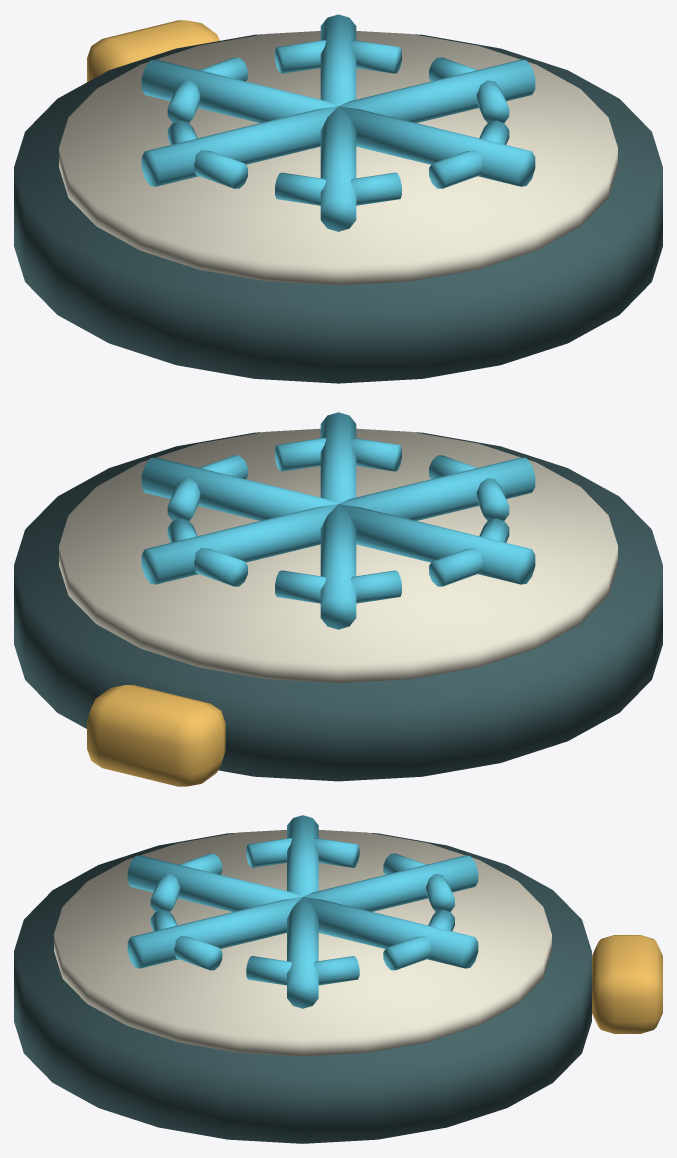
File: freeze.glb
3 views of the same model, one above another, from view 1: azimuth 30°, elevation 25°; view 2: azimuth 150°, elevation 25°; view 3: azimuth 270°, elevation 25° (orthographic). The views are drawn at different scales.
Visible parts, largest first — view 1: Clock case, Frost dial, Crystal spoke.003, Crystal spoke.005, Crystal spoke, Crystal spoke.002, Crystal spoke.004, Clock crown, Crystal spoke.001, Crystal branch.007, Crystal branch.010, Crystal branch.008 (+9 smaller); view 2: Frost dial, Clock case, Clock crown, Crystal spoke.001, Crystal spoke.003, Crystal spoke, Crystal spoke.004, Crystal spoke.002, Crystal spoke.005, Crystal branch.003, Crystal branch.006, Crystal branch.004 (+7 smaller); view 3: Clock case, Frost dial, Clock crown, Crystal spoke.001, Crystal spoke.005, Crystal spoke.004, Crystal spoke.002, Crystal spoke, Crystal spoke.003, Crystal branch.002, Crystal branch.011, Crystal branch.006 (+7 smaller).
Boxes of the visible parts, <box> form: Clock case: <box>14,34,662,383</box>; Frost dial: <box>59,31,617,285</box>; Crystal spoke.003: <box>141,106,337,186</box>; Crystal spoke.005: <box>339,106,535,186</box>; Crystal spoke: <box>339,59,535,122</box>; Crystal spoke.002: <box>141,59,337,122</box>; Crystal spoke.004: <box>320,106,356,231</box>; Clock crown: <box>87,20,219,81</box>; Crystal spoke.001: <box>320,14,356,105</box>; Crystal branch.007: <box>194,150,247,188</box>; Crystal branch.010: <box>429,150,482,188</box>; Crystal branch.008: <box>275,172,326,205</box>; Frost dial: <box>59,428,617,683</box>; Clock case: <box>14,432,662,781</box>; Clock crown: <box>87,685,225,786</box>; Crystal spoke.001: <box>141,504,337,584</box>; Crystal spoke.003: <box>339,504,535,584</box>; Crystal spoke: <box>141,457,337,520</box>; Crystal spoke.004: <box>339,457,535,520</box>; Crystal spoke.002: <box>320,504,356,629</box>; Crystal spoke.005: <box>320,412,356,503</box>; Crystal branch.003: <box>194,548,247,586</box>; Crystal branch.006: <box>429,548,482,586</box>; Crystal branch.004: <box>275,570,326,603</box>; Clock case: <box>14,833,591,1143</box>; Frost dial: <box>54,830,551,1056</box>; Clock crown: <box>592,935,662,1033</box>; Crystal spoke.001: <box>303,897,478,968</box>; Crystal spoke.005: <box>127,897,302,968</box>; Crystal spoke.004: <box>127,855,302,911</box>; Crystal spoke.002: <box>303,855,478,911</box>; Crystal spoke: <box>287,897,318,1008</box>; Crystal spoke.003: <box>287,815,318,896</box>; Crystal branch.002: <box>383,936,431,970</box>; Crystal branch.011: <box>174,936,222,970</box>; Crystal branch.006: <box>314,838,359,867</box>.
Bounding box in the file's own units: 2.6 × 0.62 × 2.92.
